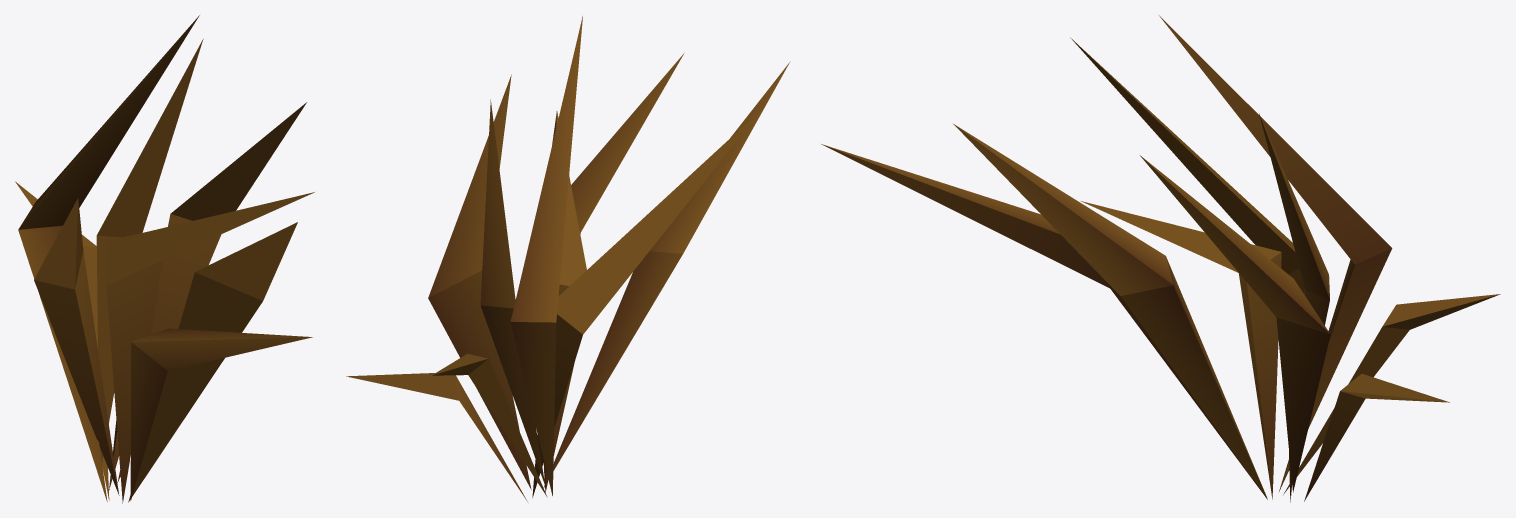
The model's file is c_grass_desert_ad.fbx.
3 renders of one model, left to right at view 1: azimuth 30°, elevation 25°; view 2: azimuth 150°, elevation 25°; view 3: azimuth 270°, elevation 25°, orthographic. The views are drawn at different scales.
Parts seen in each view (by area): view 1: c_grass_desert_ad; view 2: c_grass_desert_ad; view 3: c_grass_desert_ad.
Part boxes in pixels (x1,y1,x2,y2): c_grass_desert_ad: (15, 15, 314, 503); c_grass_desert_ad: (346, 16, 790, 501); c_grass_desert_ad: (821, 15, 1500, 502).
Size of the model in its own units: 0.4818 by 0.8157 by 1.02.
